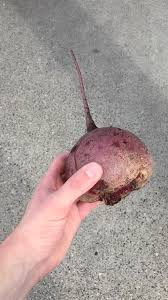beet: (67, 50, 152, 205)
